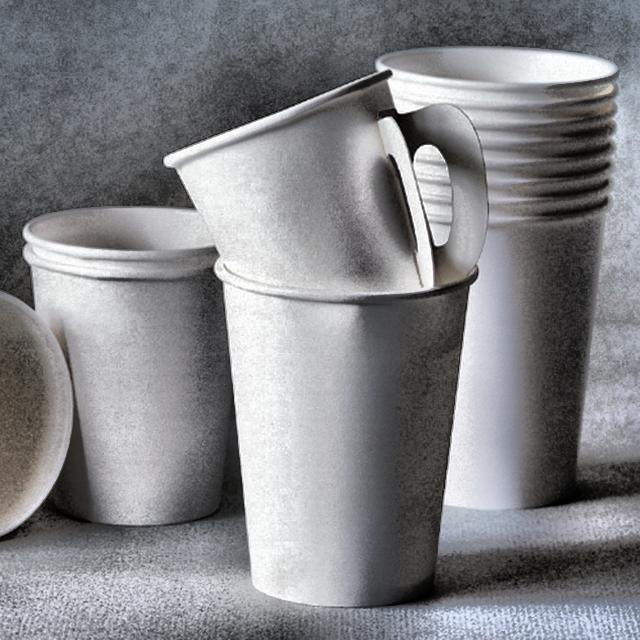Cup: (205, 234, 512, 640), (373, 31, 626, 511), (10, 195, 240, 538)
